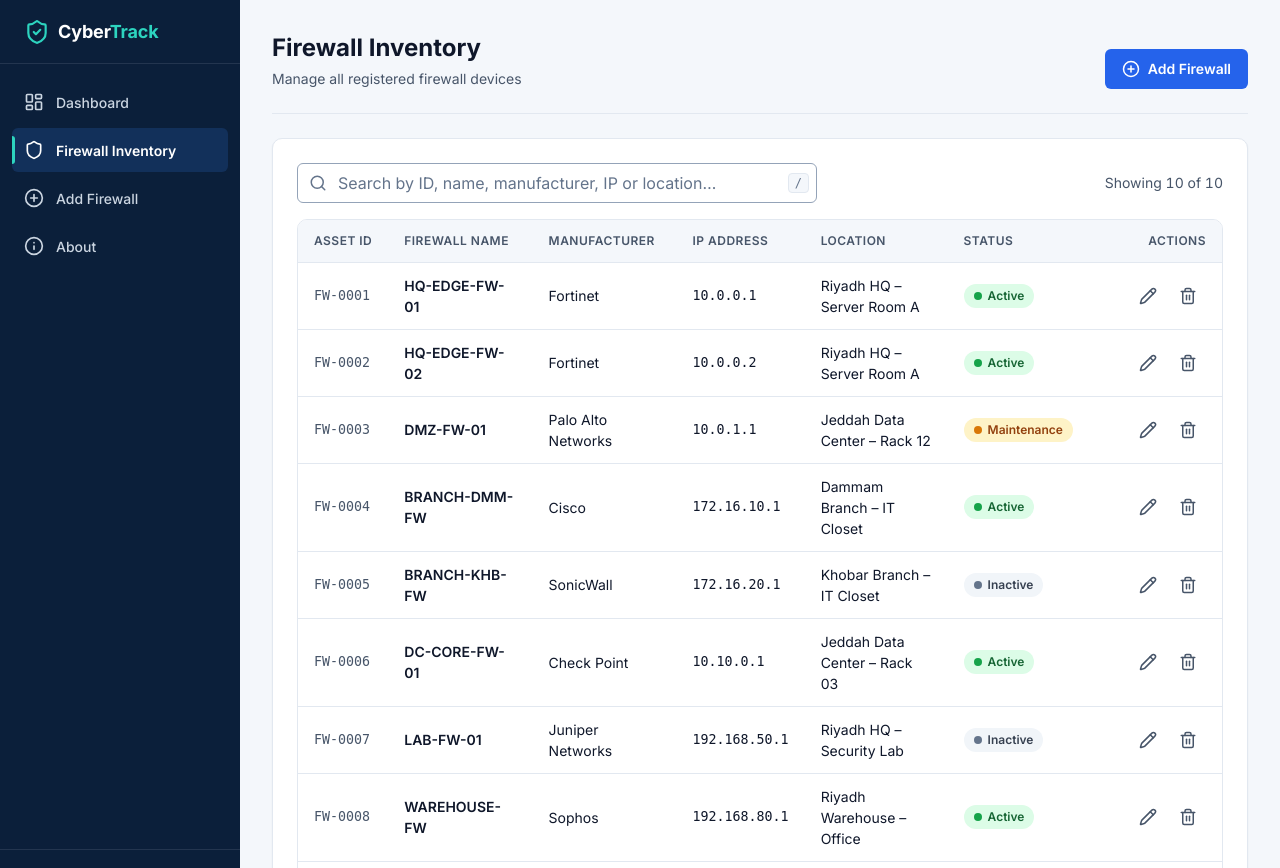
Test: Firewall Inventory › reports an error, not success, when the firewall no longer exists (CQ-02)
Click the button named "Delete DMZ-FW-01" at (1188, 430), box [1170,412,1206,448]
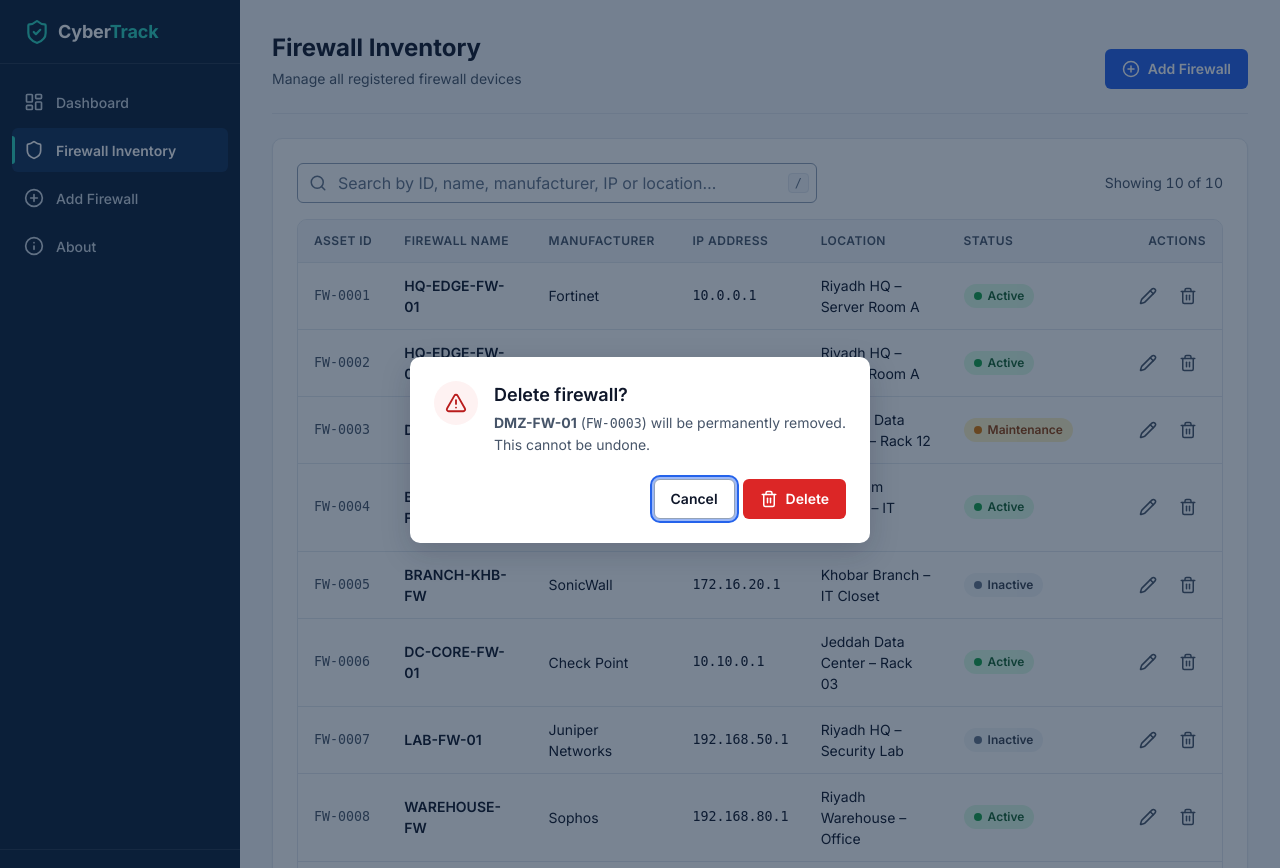
Click the button "Delete" at (794, 499), box [743,479,846,519]
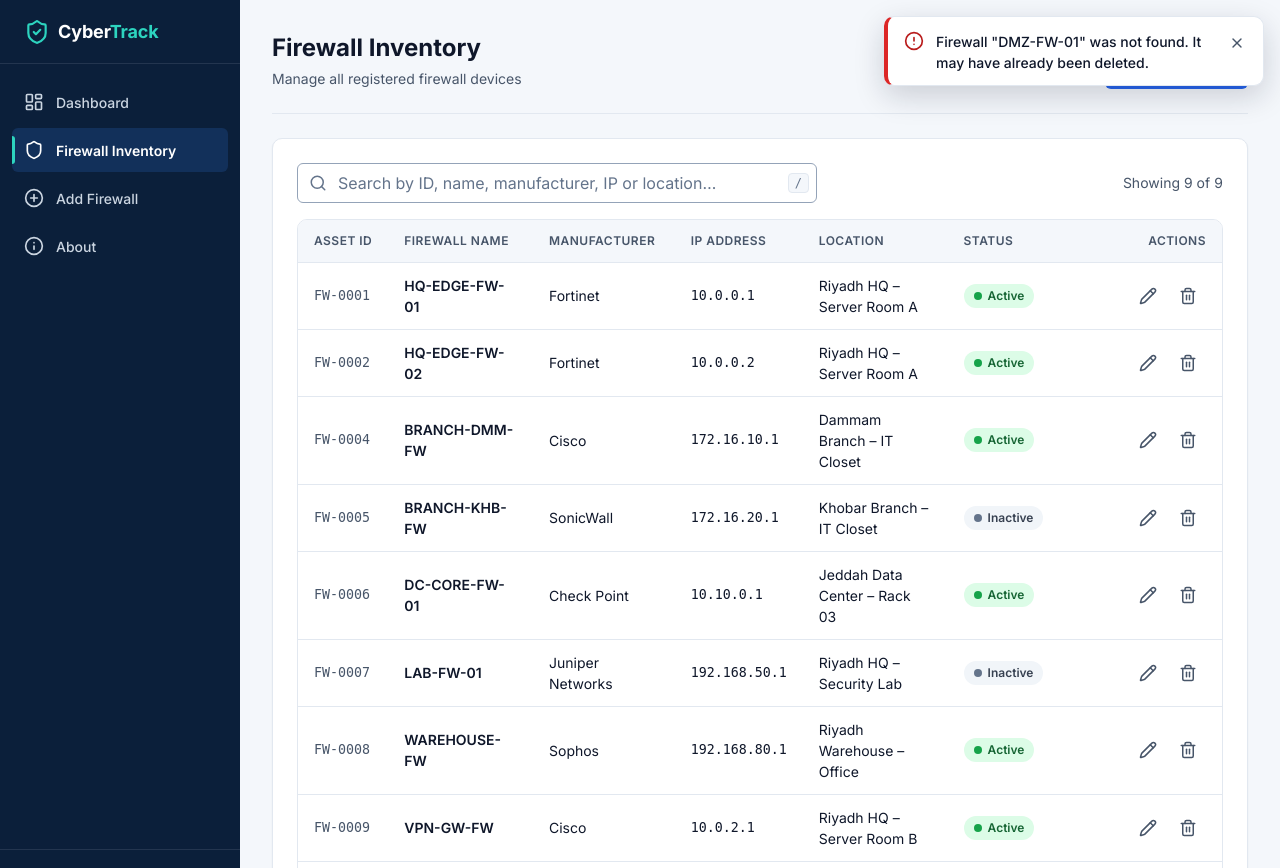
Check: the text "Firewall \"DMZ-FW-01\" was not found. It may have already been deleted." is shown, box [936,29,1211,73]
